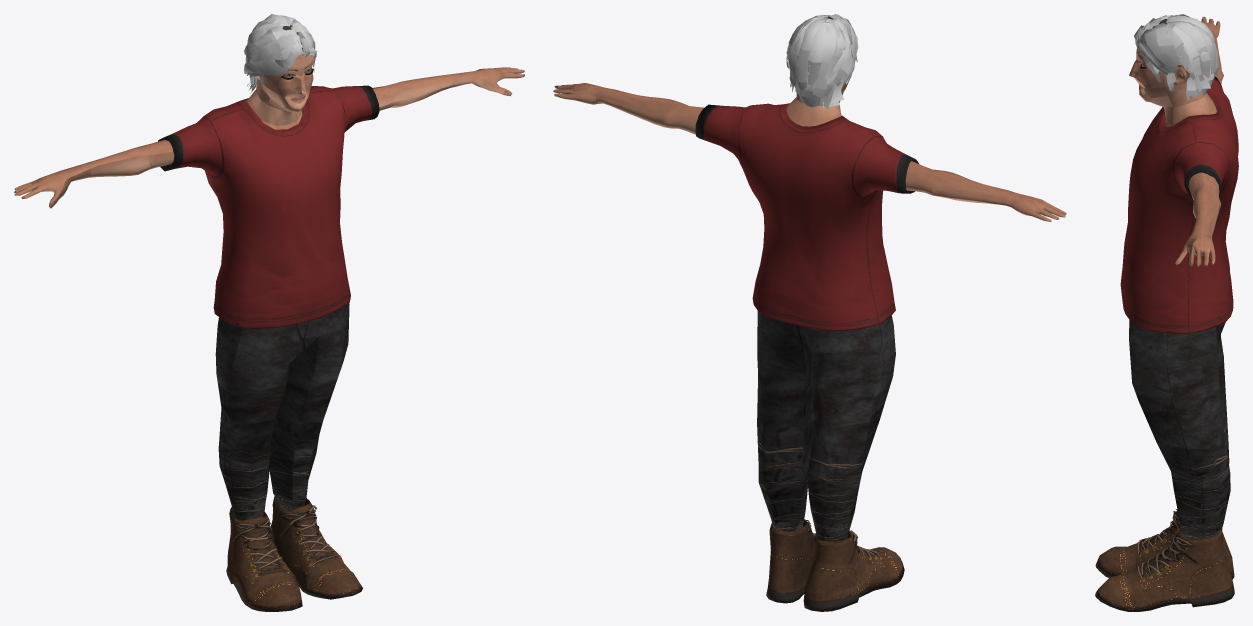
File: T-Pose-Model.fbx
The picture shows the model from 3 angles, left to right: view 1: azimuth 30°, elevation 25°; view 2: azimuth 150°, elevation 25°; view 3: azimuth 270°, elevation 25°; orthographic projection.
Visible parts, largest first — view 1: Tops, Bottoms, Shoes, Body, Hair; view 2: Tops, Bottoms, Shoes, Body, Hair; view 3: Tops, Bottoms, Shoes, Body, Hair.
Part boxes in pixels (x1,y1,x2,y2): Tops: (158,85,379,328); Bottoms: (215,303,349,520); Shoes: (226,496,362,611); Body: (14,25,524,208); Hair: (244,14,317,93); Tops: (695,103,918,330); Bottoms: (757,311,895,541); Shoes: (766,519,904,611); Body: (553,17,1066,221); Hair: (786,14,858,108); Tops: (1120,76,1238,334); Bottoms: (1129,320,1230,539); Shoes: (1095,509,1234,611); Body: (1129,16,1223,266); Hair: (1134,14,1218,99).
Size of the model in its own units: 167 by 177 by 40.35.
